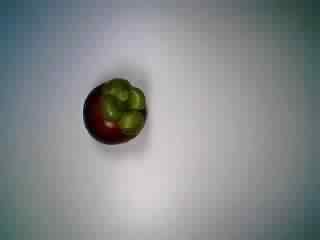mangosteen: (79, 75, 157, 148)
